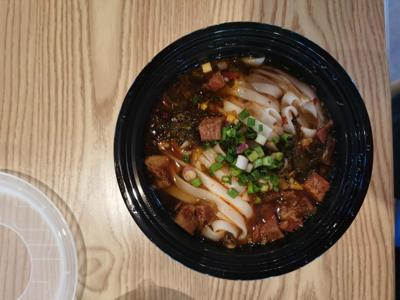nrm: (156, 46, 339, 254)
